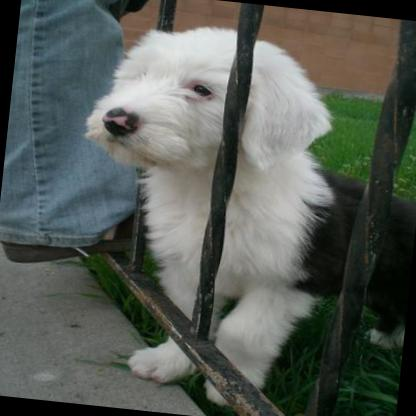Old_English_sheepdog: (54, 13, 416, 416)
